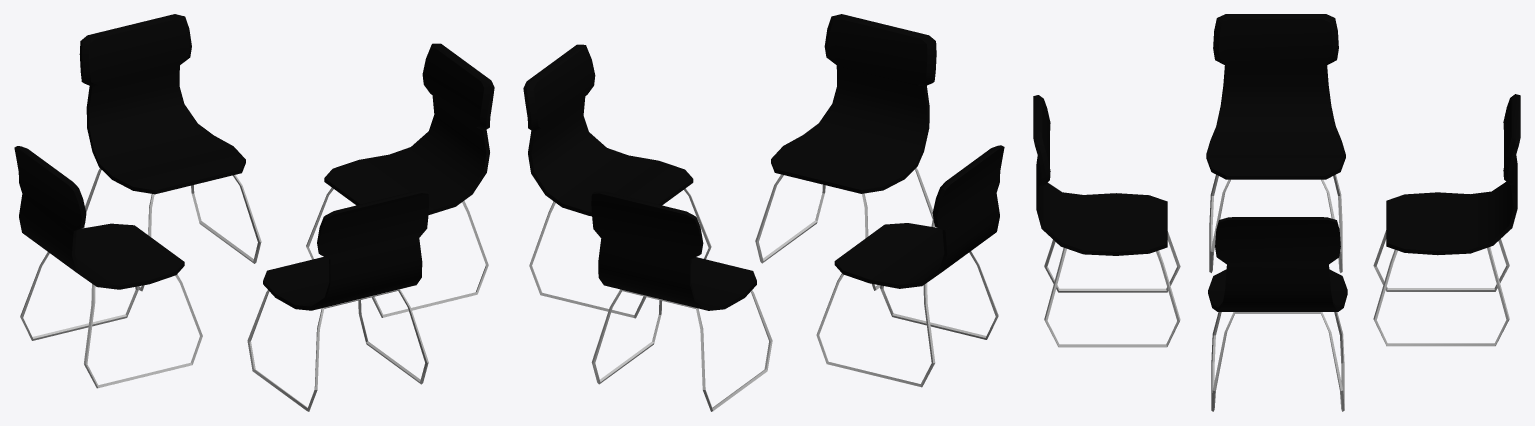
Rendered from Biblioteca_Sillas_Estudio_005.fbx.
3 views of the same model, side by side, from view 1: azimuth 30°, elevation 25°; view 2: azimuth 150°, elevation 25°; view 3: azimuth 270°, elevation 25° (orthographic).
Parts seen in each view (by area): view 1: Biblioteca_Sillas_Estudio.005; view 2: Biblioteca_Sillas_Estudio.005; view 3: Biblioteca_Sillas_Estudio.005.
Part boxes in pixels (left/top/right/bottom): Biblioteca_Sillas_Estudio.005: left=14, top=14, right=494, bottom=411; Biblioteca_Sillas_Estudio.005: left=523, top=14, right=1004, bottom=411; Biblioteca_Sillas_Estudio.005: left=1033, top=14, right=1520, bottom=411.
Bounding box in the file's own units: 218 × 100 × 218.
